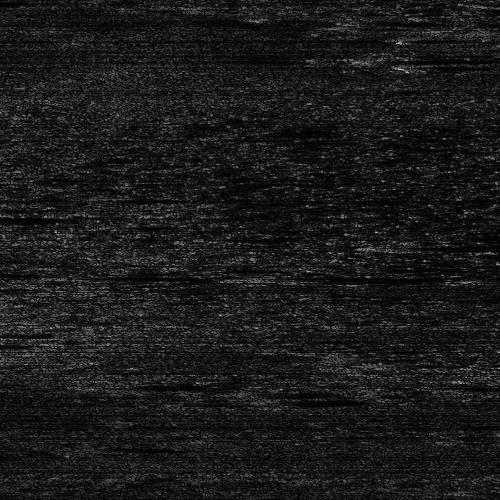object: (328, 239, 453, 252), (328, 53, 443, 62), (46, 381, 151, 390), (208, 273, 313, 282), (251, 394, 314, 403), (446, 277, 500, 282)
shadow: (391, 239, 500, 252), (0, 210, 81, 223), (261, 273, 368, 282), (386, 53, 477, 62), (98, 381, 185, 390), (283, 394, 366, 403), (478, 277, 500, 282)
